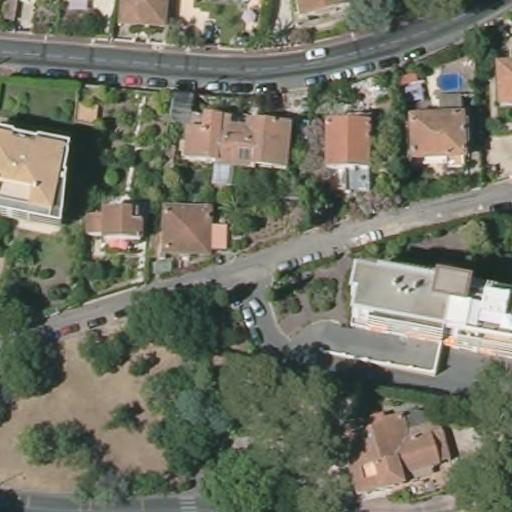pool: (430, 67, 463, 92)
